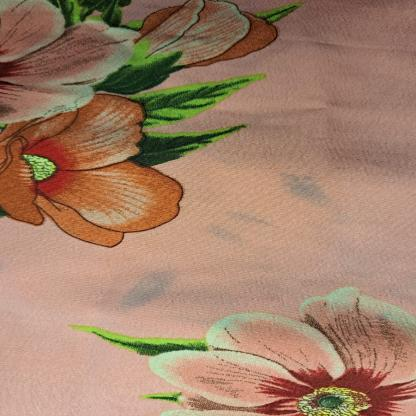spot: (105, 266, 190, 314), (272, 168, 342, 210), (205, 211, 252, 248)
